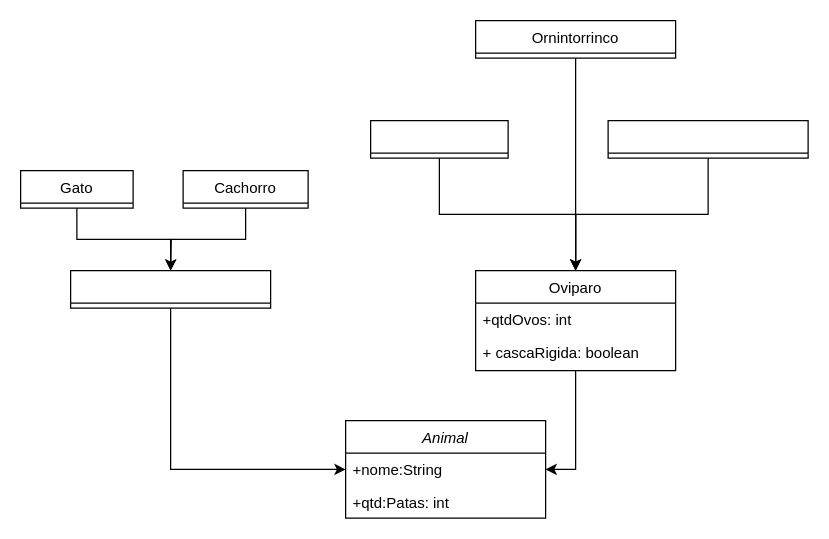
Some shapes in this 829 by 539 pixel diagram are drawn without their labels. Each missing label, with the centre of its shape:
"Aves" belongs at point (707, 138).
"Mamifero" belongs at point (170, 288).
"TartarugaMarinha" belongs at point (438, 138).
